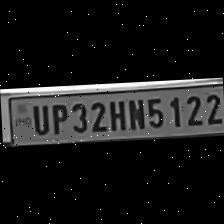1: (164, 94, 182, 128)
2: (200, 90, 222, 126), (182, 91, 202, 127), (86, 97, 106, 132)
3: (65, 99, 87, 133)
5: (142, 94, 164, 130)
H: (104, 96, 126, 132)
N: (123, 96, 143, 130)
P: (46, 100, 68, 136)
U: (26, 102, 48, 136)
